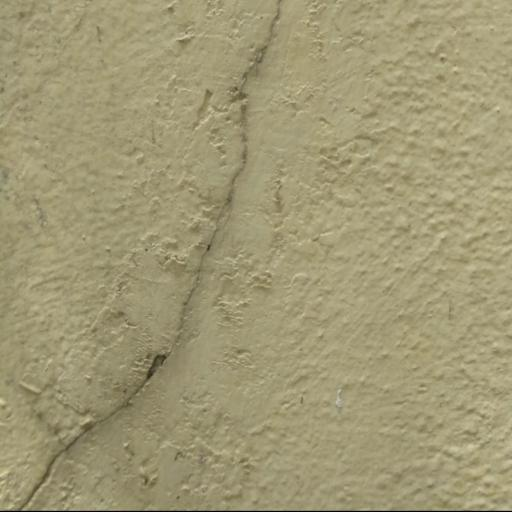minor_crack: (18, 0, 289, 512)
